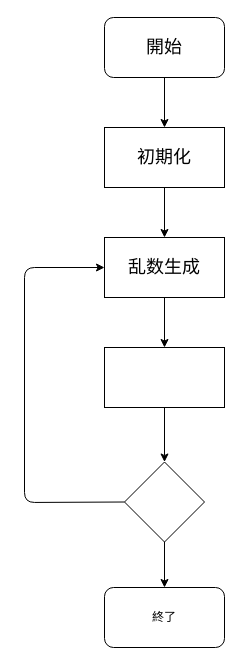
This 242x665 diagram has some shape labels left out. The shapes that lost their labels are listed below. From the top down, each one's box as (x1, y1, x2, y2) in pixels, then its label:
(104, 346, 224, 408): printf
(124, 461, 204, 542): i<10
